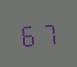seven: (38, 20, 56, 45)
six: (19, 21, 37, 47)
